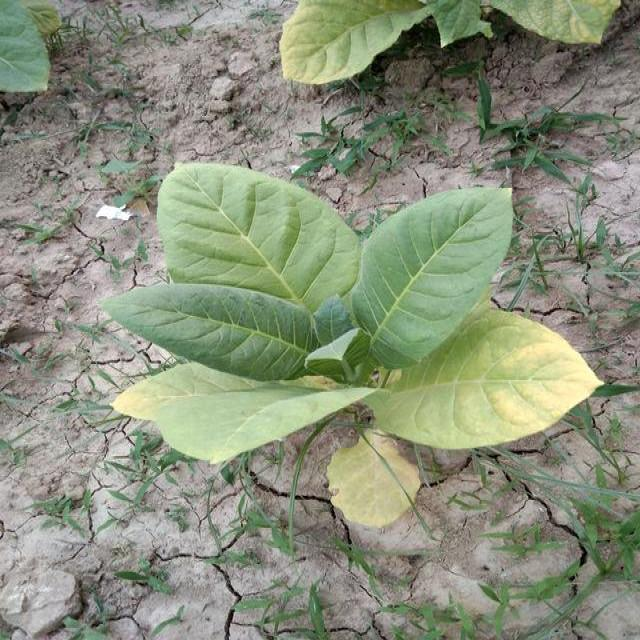crop: (147, 172, 580, 515), (275, 0, 631, 83), (0, 0, 55, 98)
